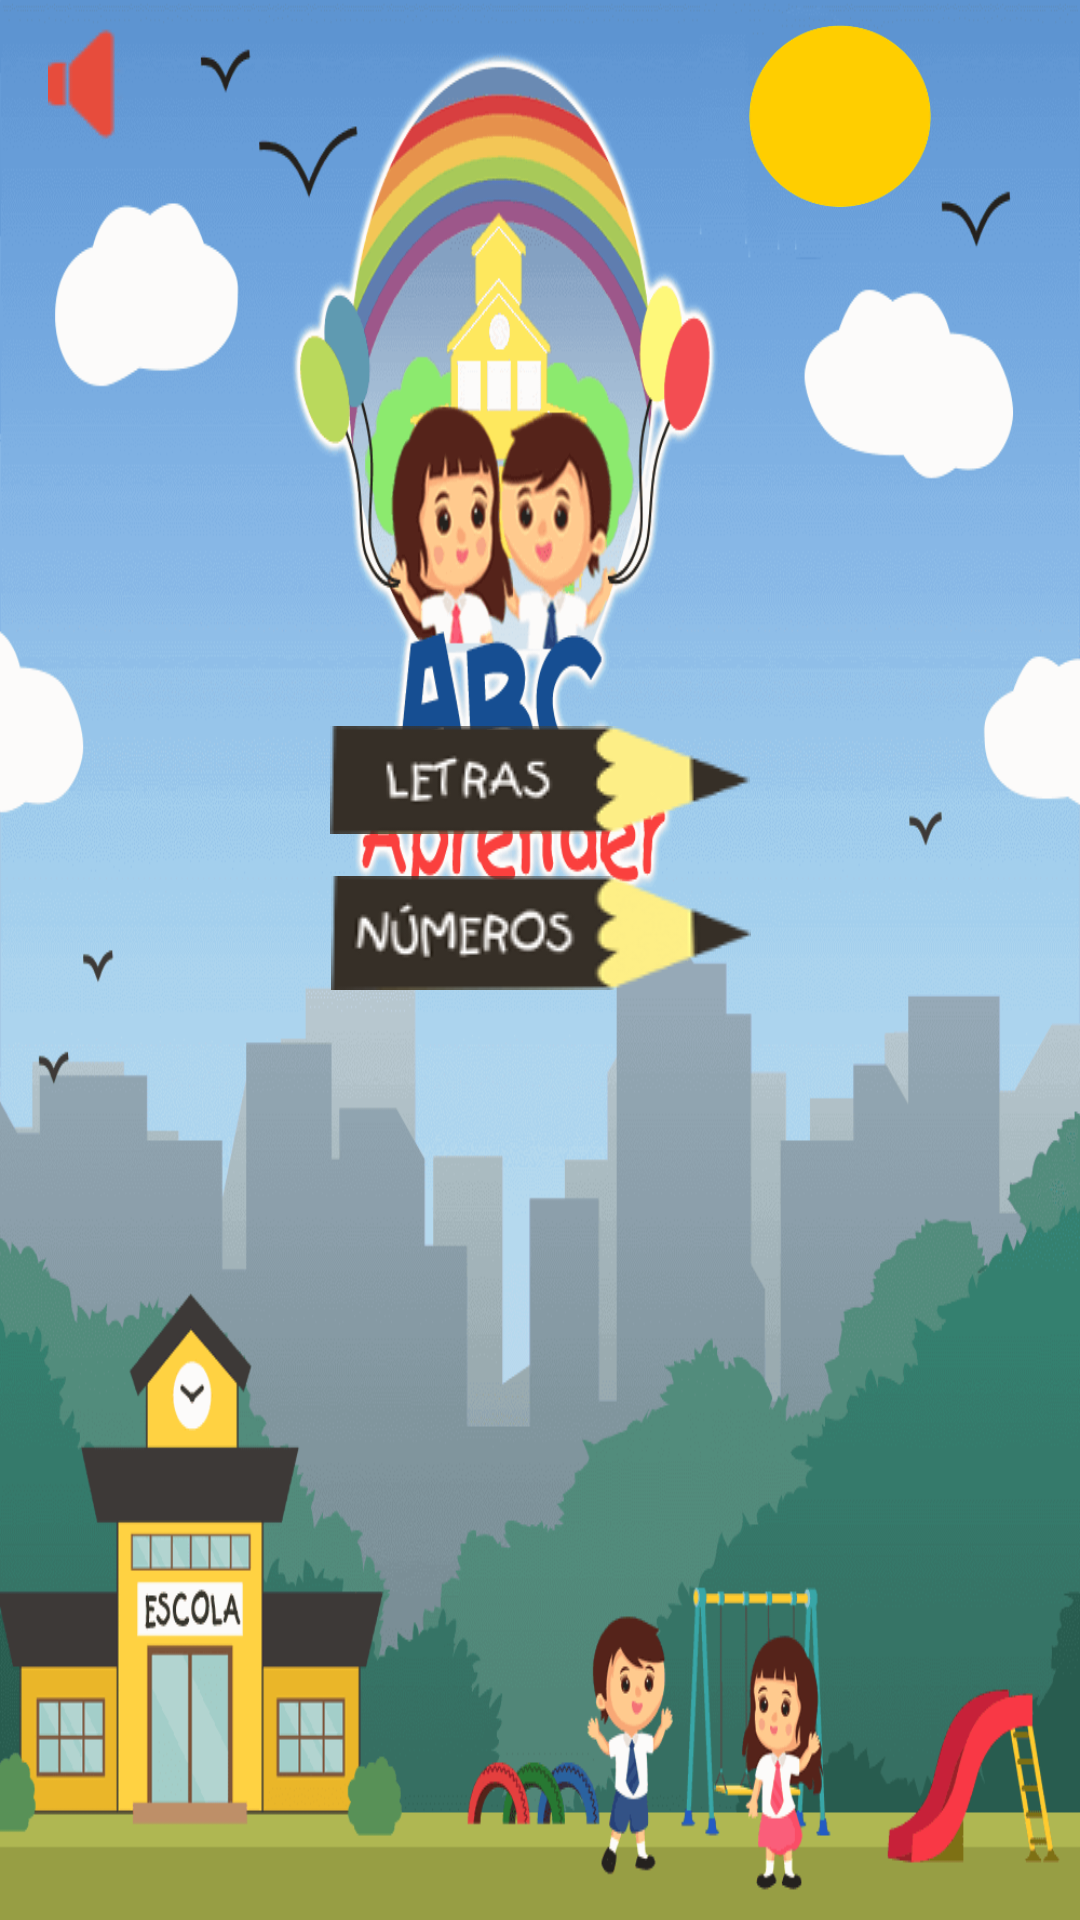

Named icons in this screenshot (1080 × 1920) and their bounding boxes, (x1, y1, x2, y2):
botao desligado: (48, 29, 115, 139)
sol app: (749, 25, 931, 207)
